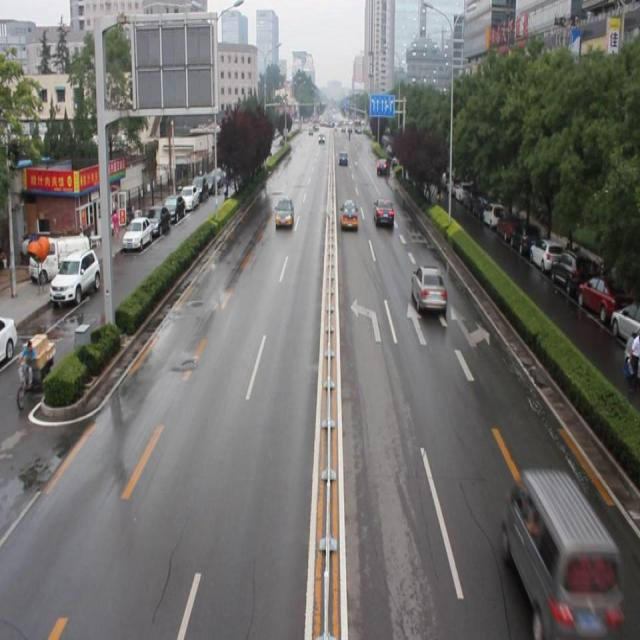car: (410, 263, 447, 313), (274, 196, 293, 228), (373, 195, 393, 225), (338, 197, 357, 228), (374, 158, 388, 174)
truck: (500, 467, 628, 640)
